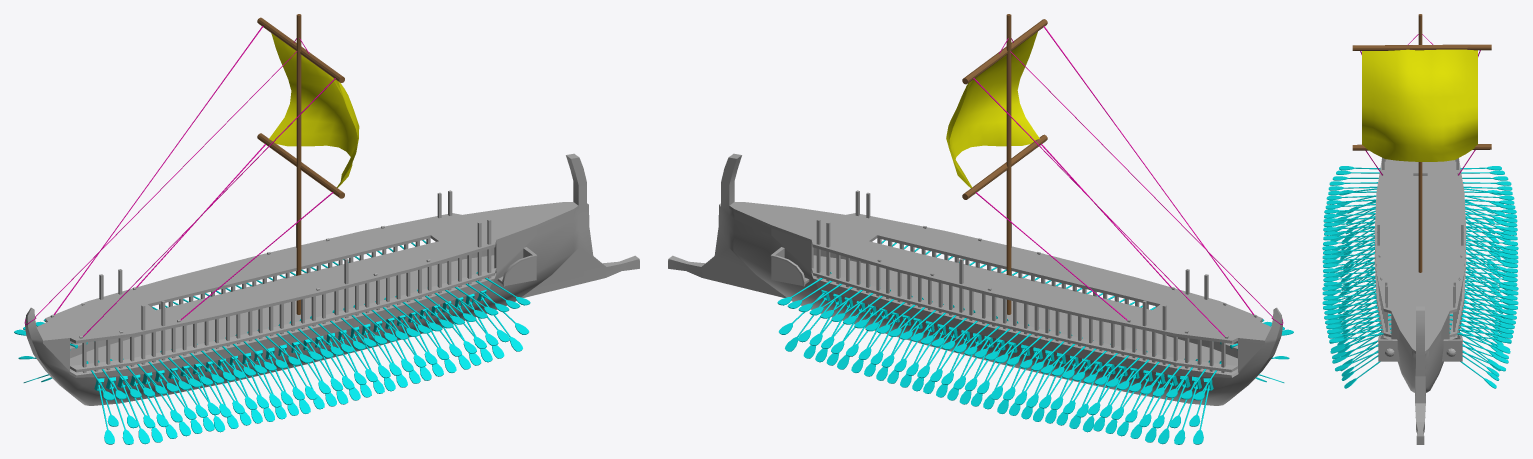
Rendered from Barco4Nuevo5.fbx.
3 renders of one model, left to right at view 1: azimuth 30°, elevation 25°; view 2: azimuth 150°, elevation 25°; view 3: azimuth 270°, elevation 25°, orthographic. The views are drawn at different scales.
Visible parts, largest first — view 1: Barco4Nuevo5; view 2: Barco4Nuevo5; view 3: Barco4Nuevo5.
Boxes of the visible parts, x1,y1,x2,y2 form: Barco4Nuevo5: [14, 14, 639, 444]; Barco4Nuevo5: [668, 14, 1293, 444]; Barco4Nuevo5: [1322, 14, 1518, 444].
Size of the model in its own units: 324107 by 180125 by 104441.
